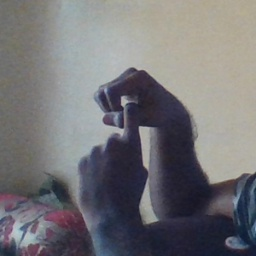Q: (73, 69, 168, 190)
